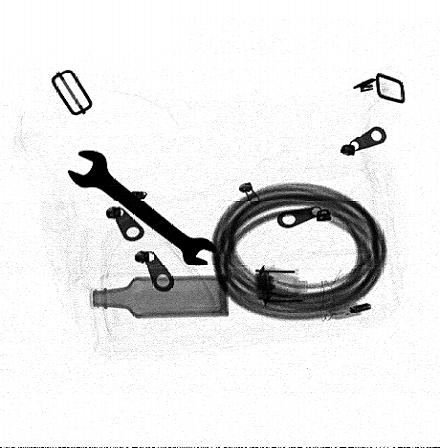Wrench: (68, 147, 223, 267)
